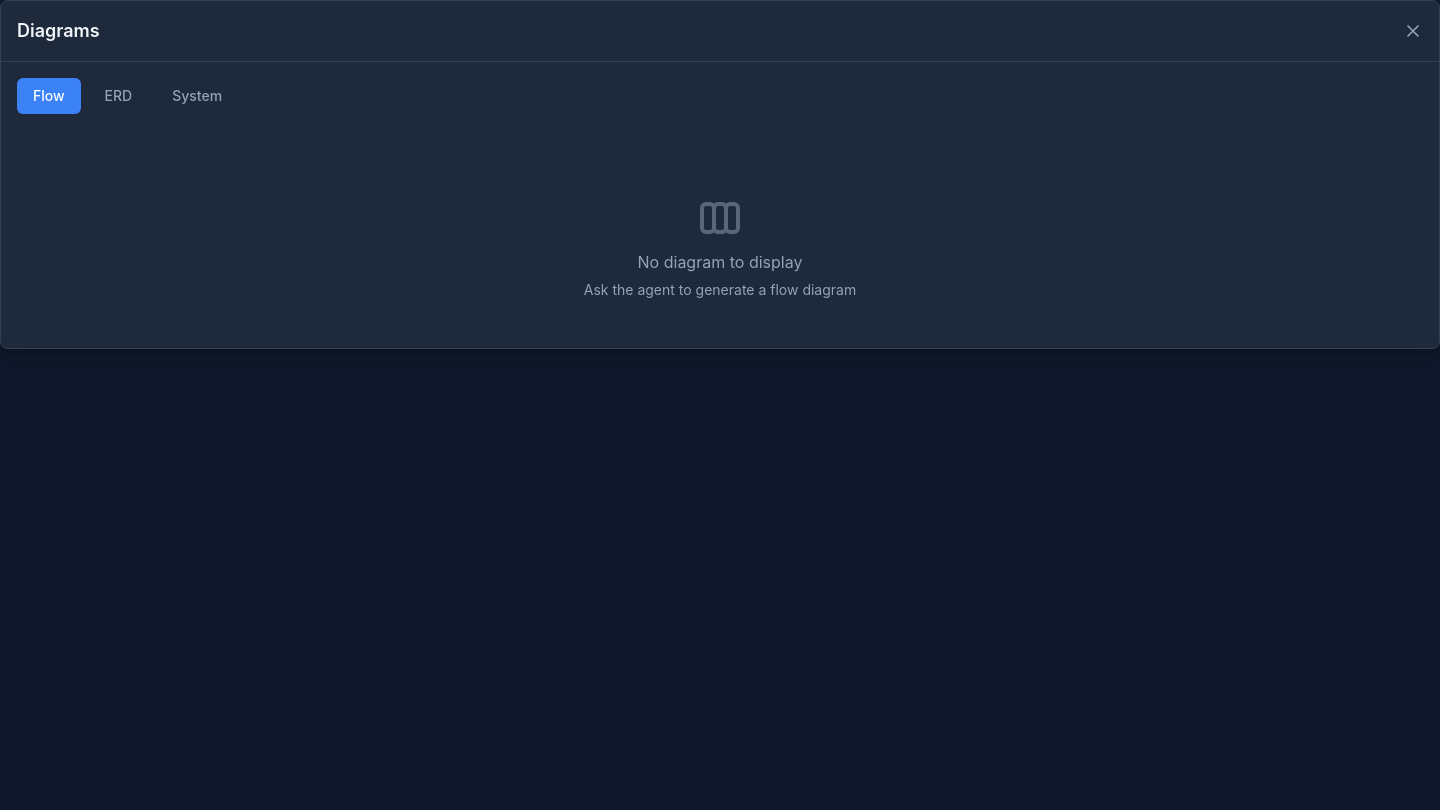
DiagramPanel › should hide panel when close button is clicked
The width and height of the screenshot is (1440, 810).
Click the button named "Hide diagram panel": (1413, 31) [1403,21,1423,41]
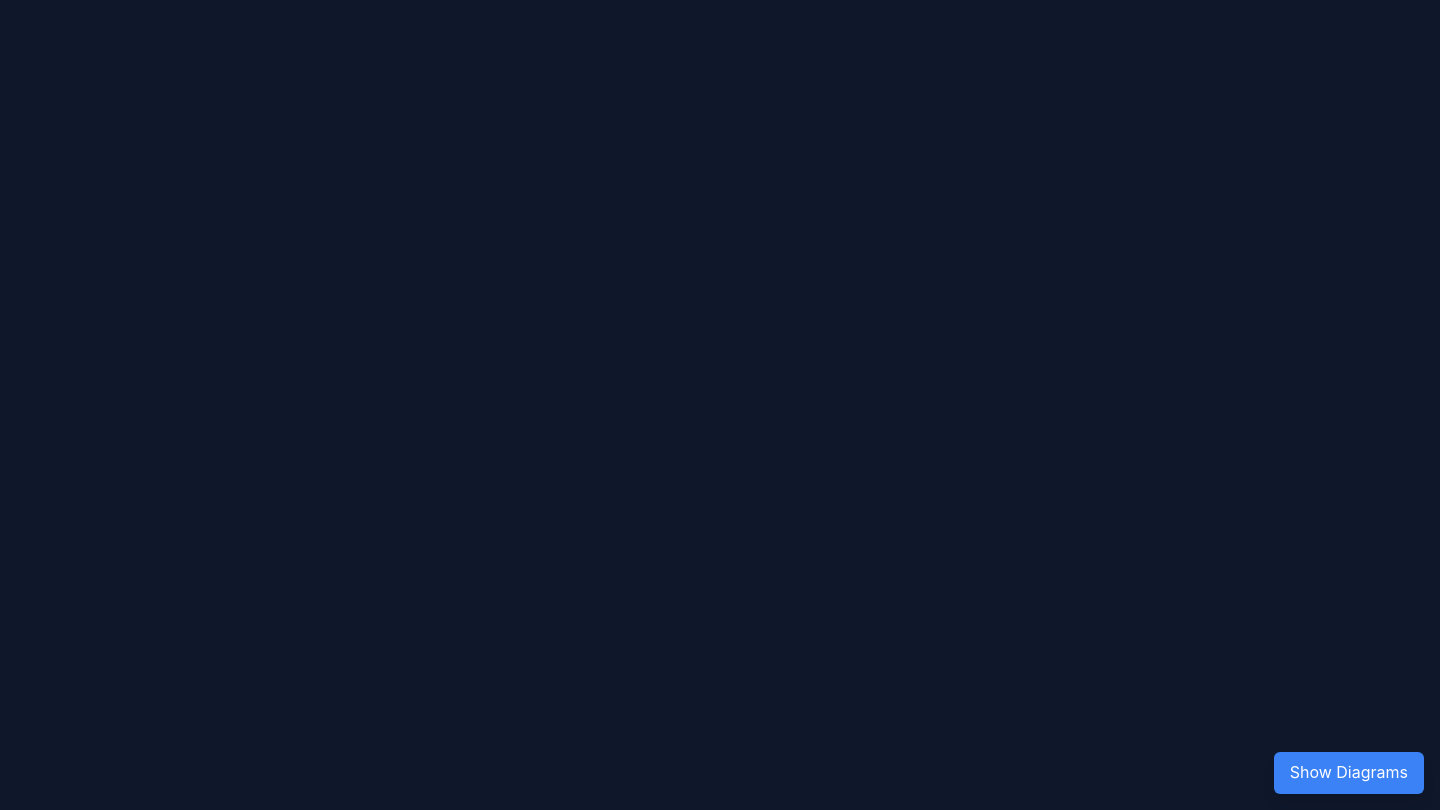
Check: the button with aria-label "Show diagram panel" is shown, box [1274,752,1424,794]
